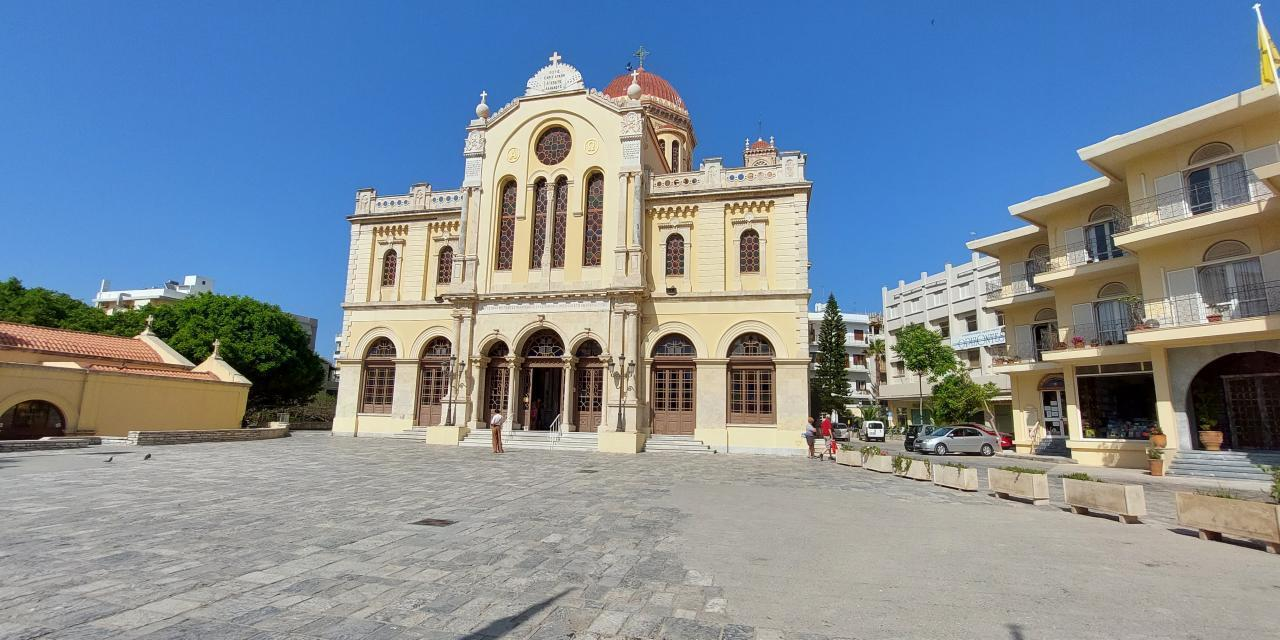Agios Minas: (328, 40, 823, 453)
